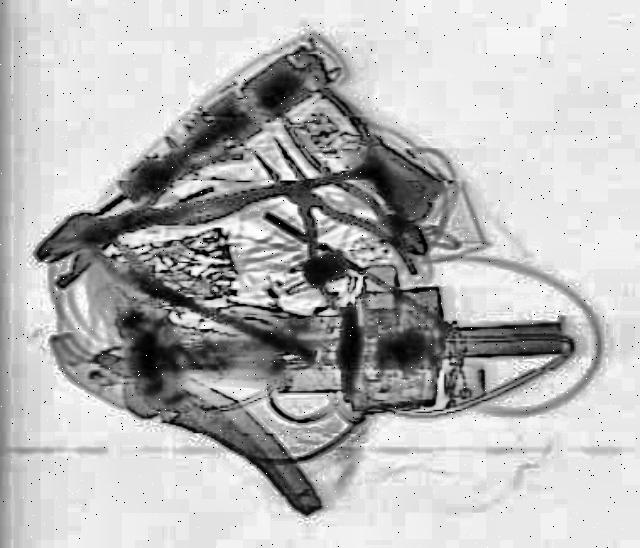Pliers: (213, 119, 427, 321), (264, 82, 458, 270), (66, 142, 272, 260)
